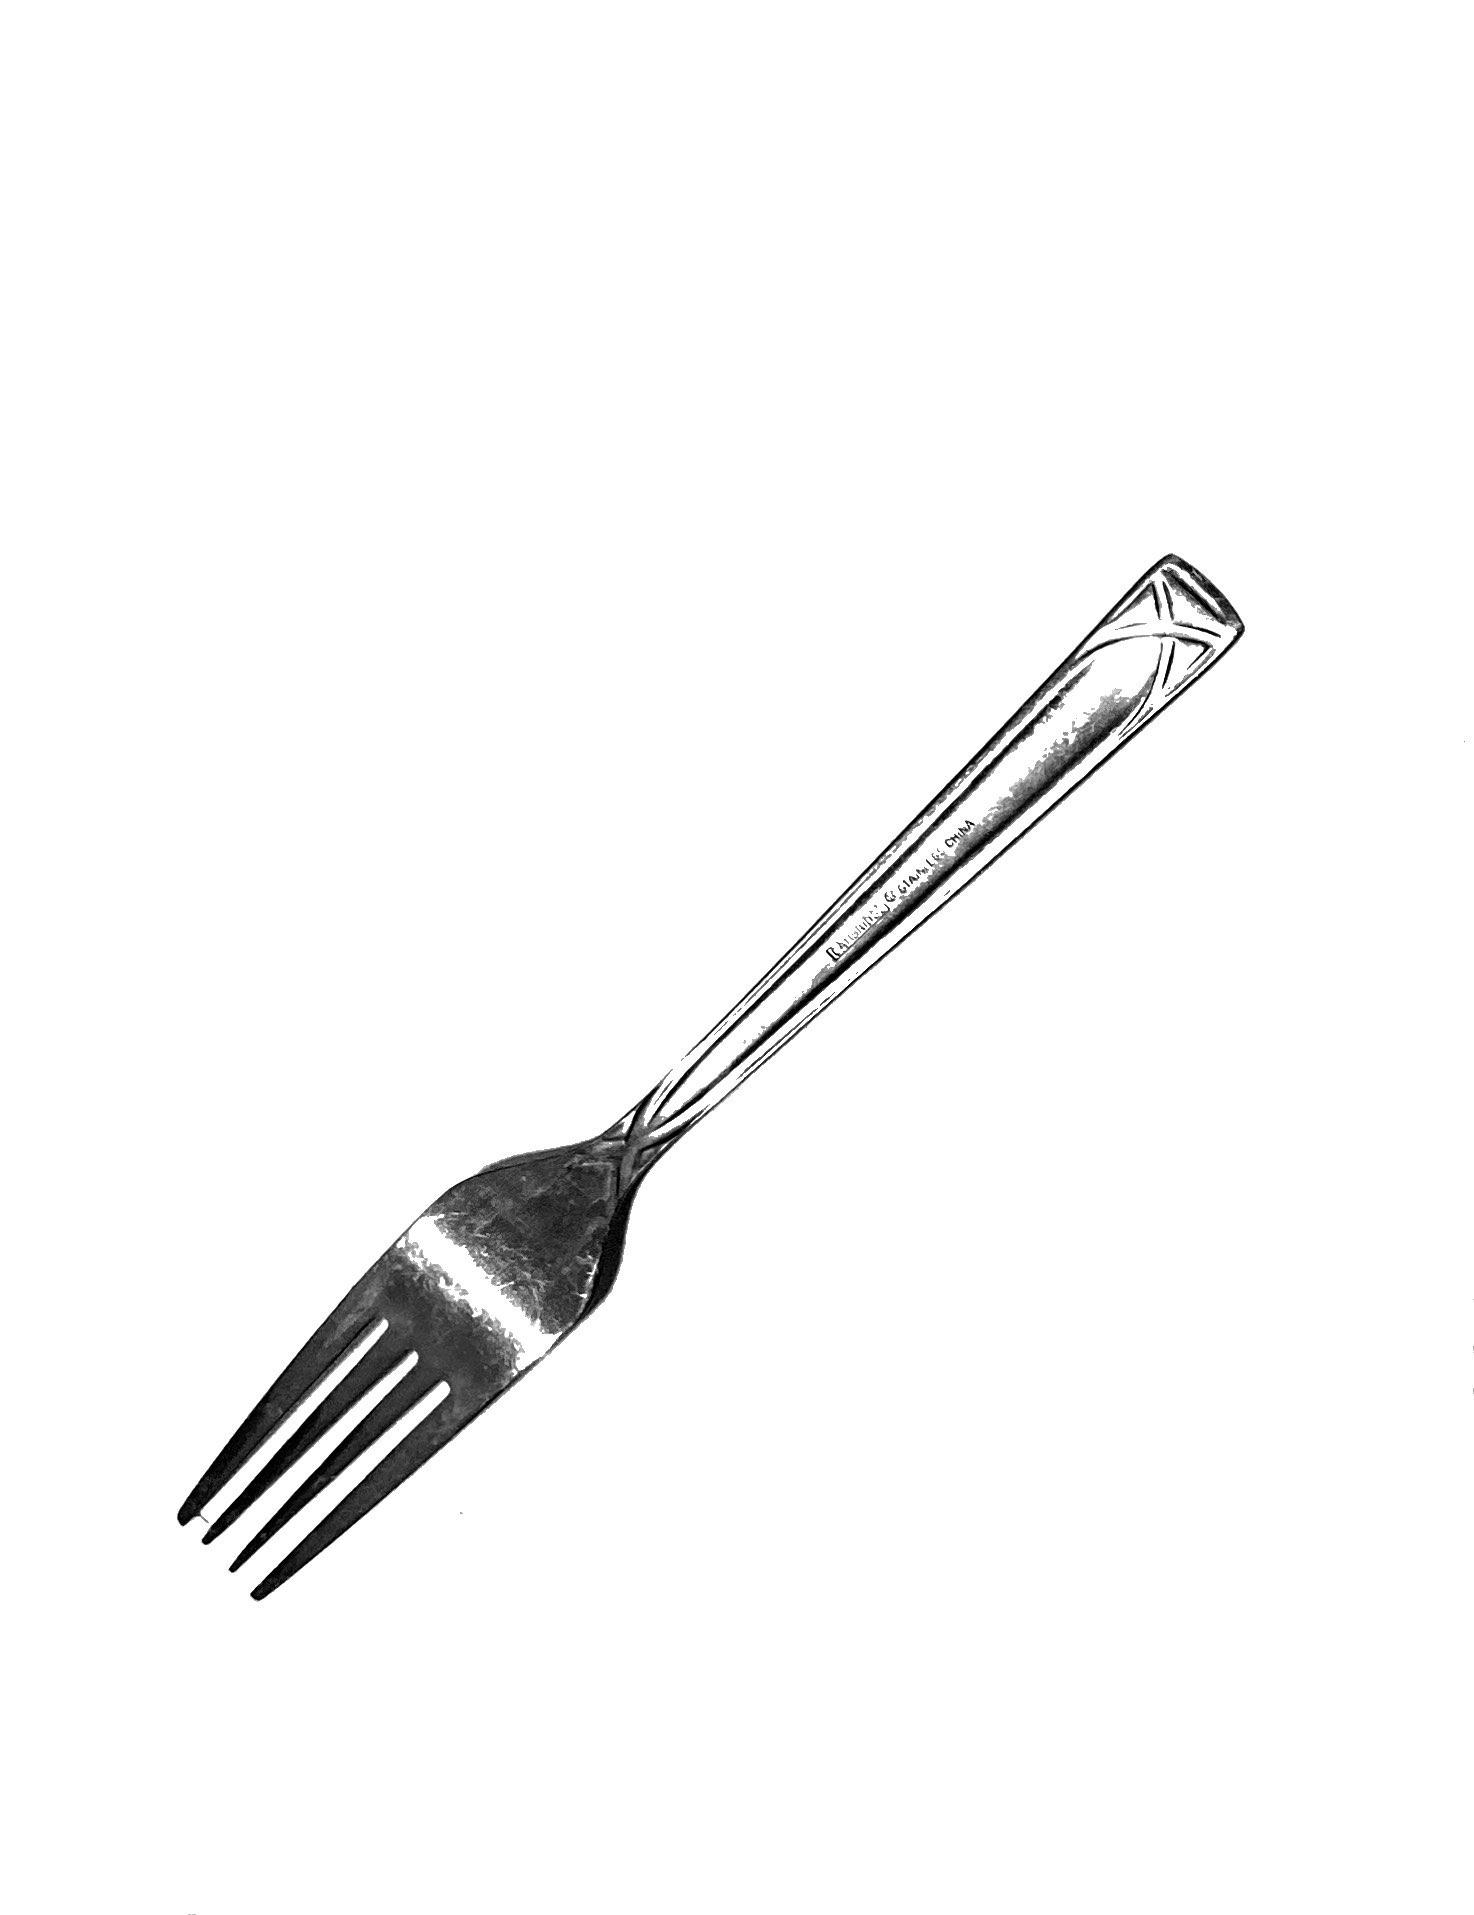Fork: (133, 447, 1397, 1687)
